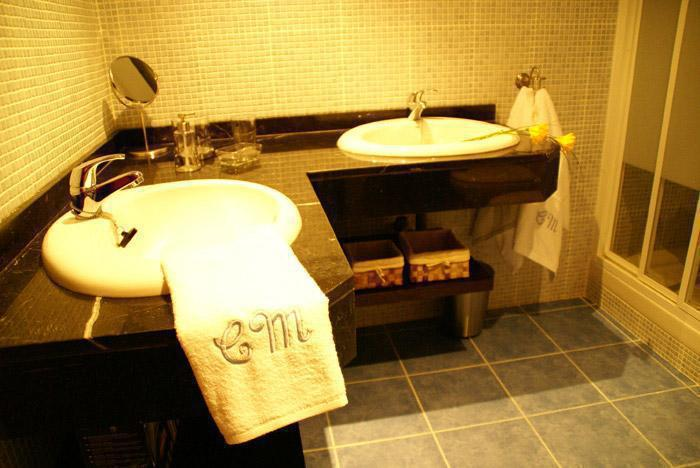Bote de Basura: (443, 267, 493, 346)
Ducha: (618, 3, 699, 372)
Lavamanos: (40, 143, 306, 303), (321, 85, 543, 165)
